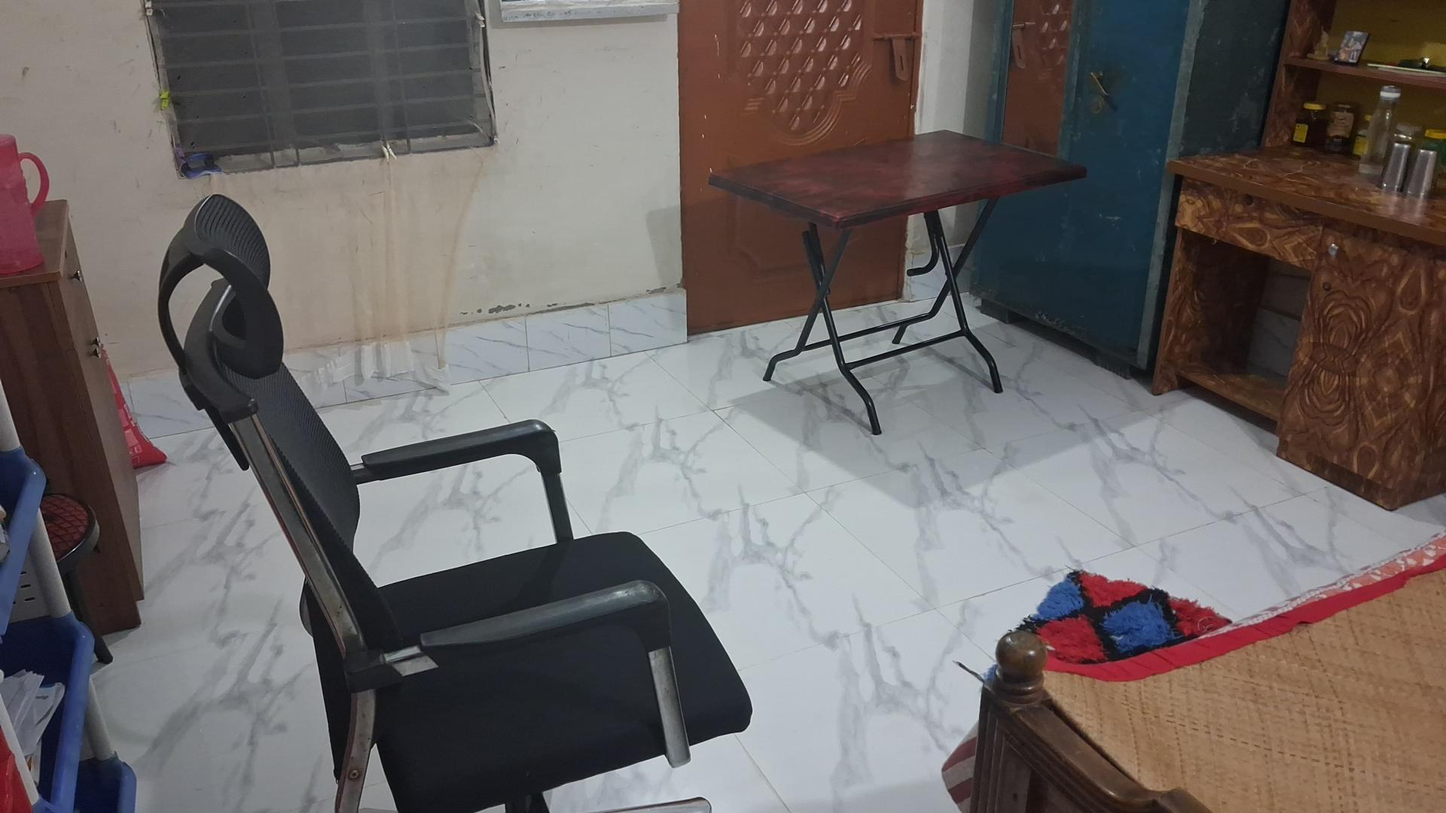Bottle: (1360, 85, 1401, 174)
Chair: (158, 192, 752, 810)
Glass: (1408, 151, 1438, 196), (1385, 144, 1409, 191)
Jar: (1293, 101, 1325, 148), (1328, 101, 1356, 154)
Jug: (0, 134, 50, 277)
Table: (709, 127, 1088, 436)
Window: (139, 0, 500, 180)
